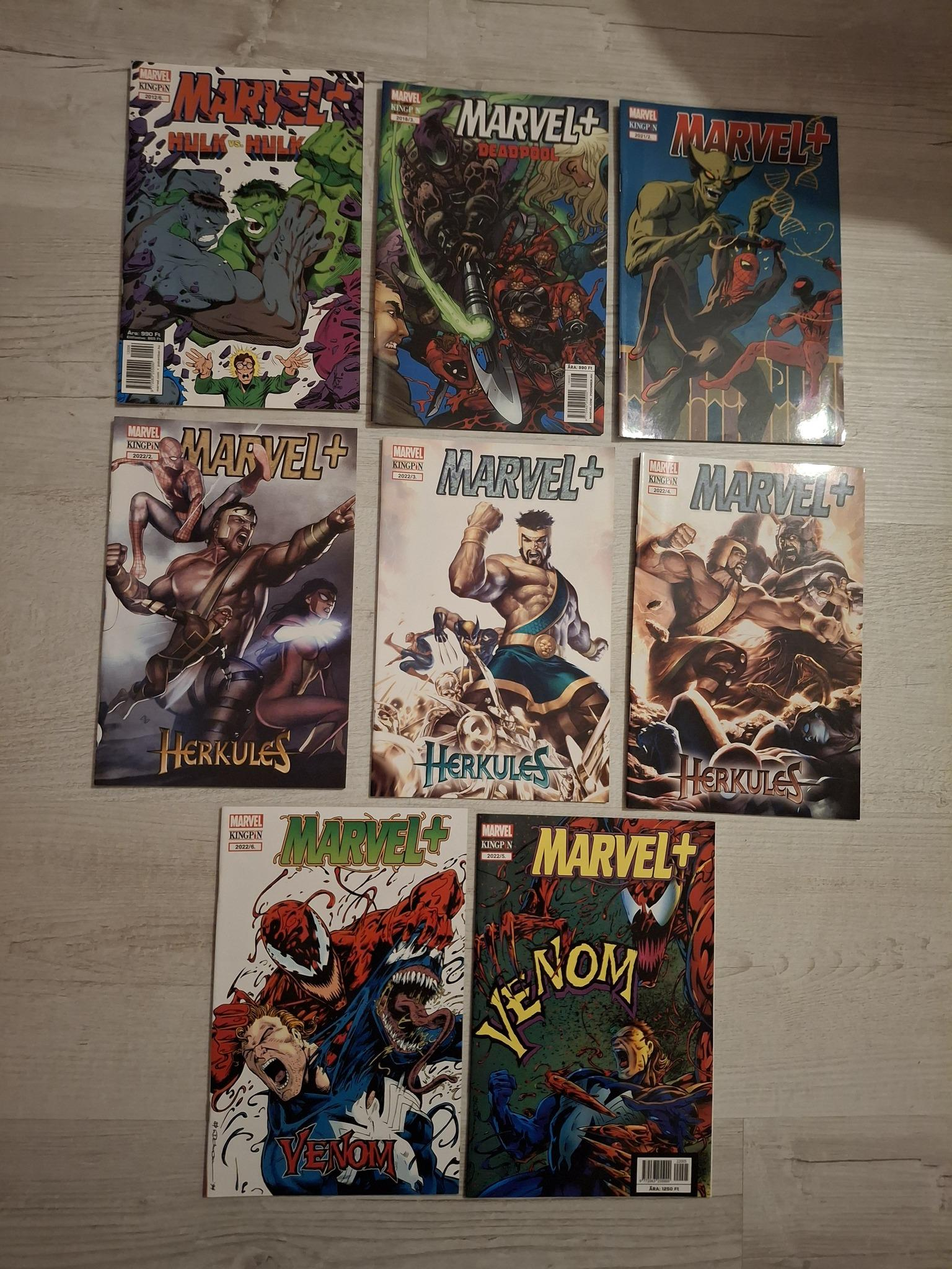comic: (205, 802, 474, 1204), (95, 415, 362, 796), (466, 812, 721, 1203), (370, 433, 617, 802), (117, 61, 373, 413), (627, 454, 869, 818), (369, 82, 615, 434), (618, 100, 844, 445)
